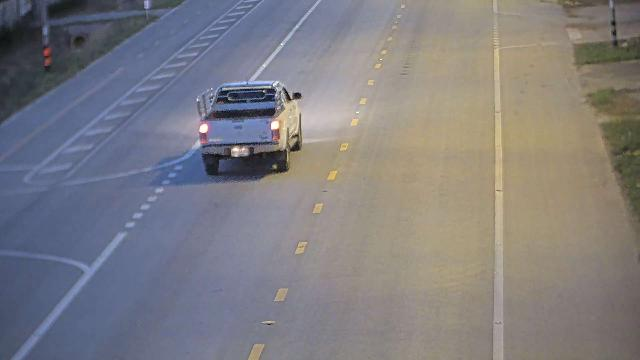pickup-truck: (195, 79, 303, 175)
